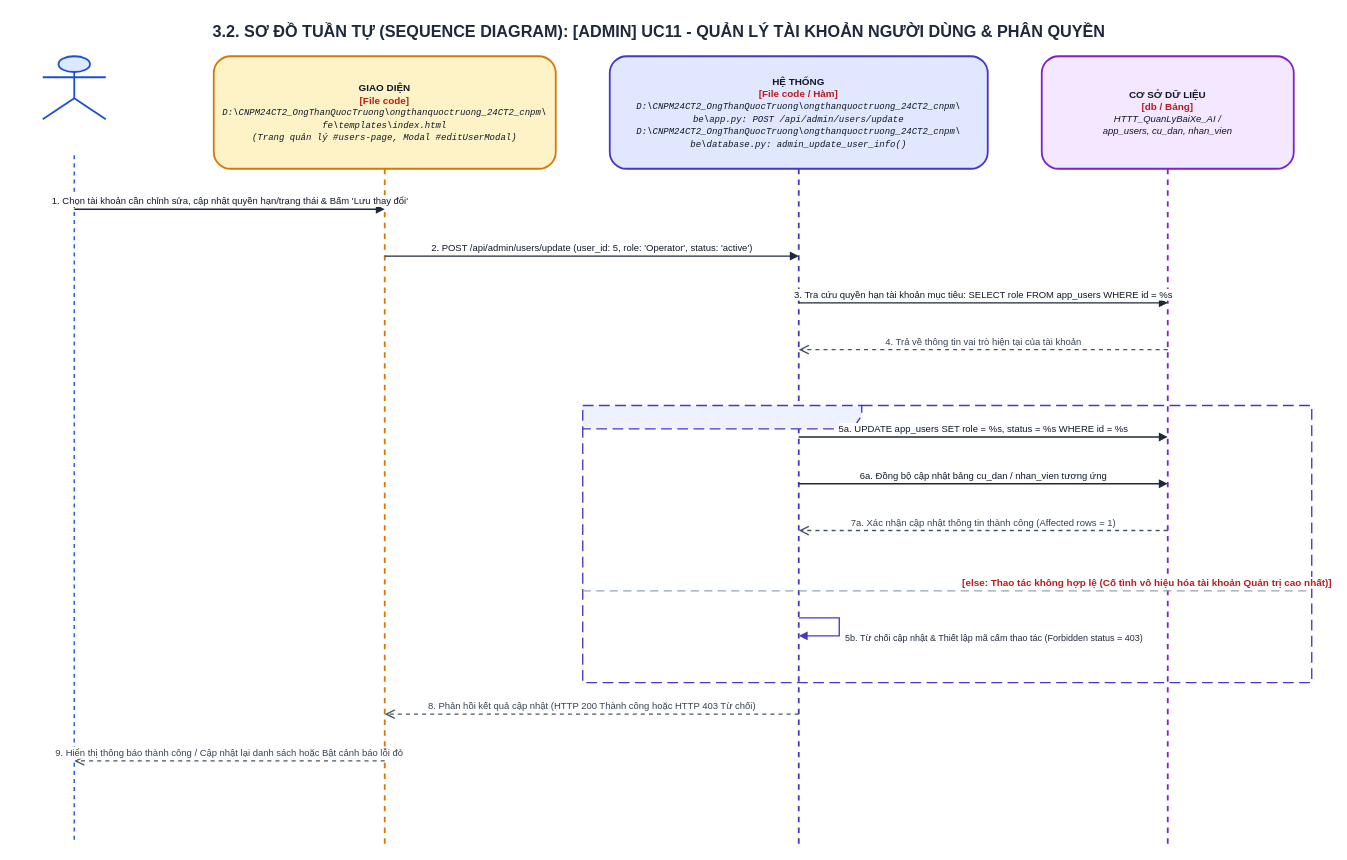
Image size: 1347x860. Some labels were removed from this diagram. The shapes that lost their labels are listed below. From the top down, each one's centre as x and y in pixels, then its label:
At [73,87]: "TÁC NHÂN Quản Trị Viên (System Admin)".
At [947,543]: "alt [Thao tác hợp lệ (Không tự khóa tài khoản Root Super Admin)]".
